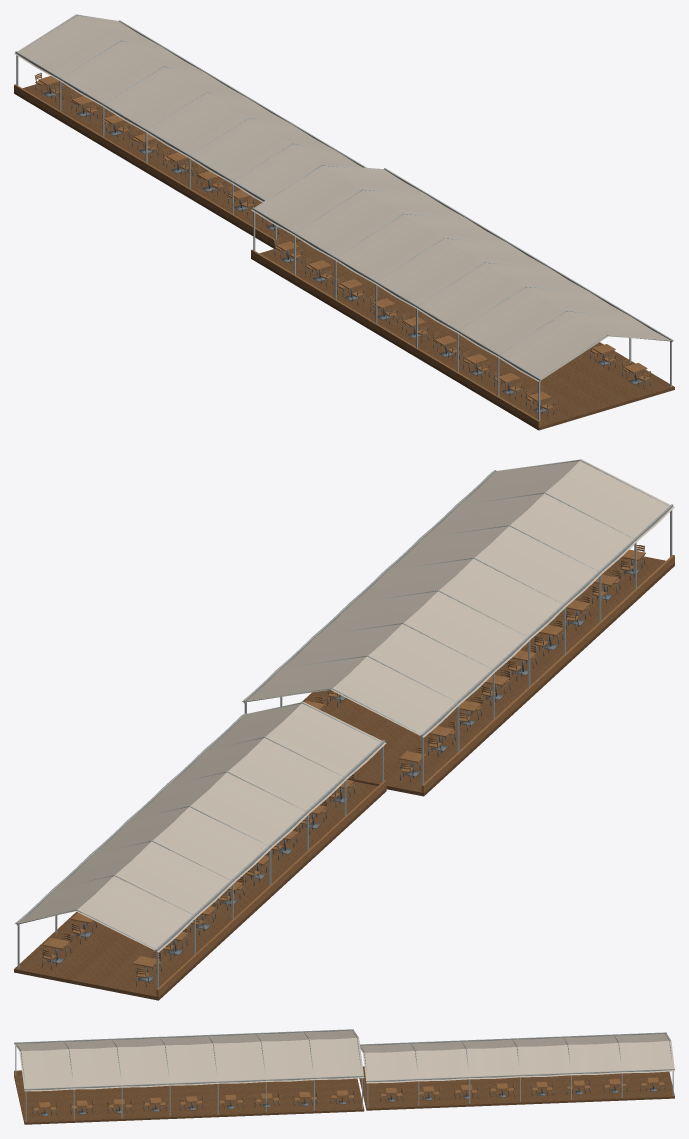
The picture shows the model from 3 angles, top to bottom: view 1: azimuth 30°, elevation 25°; view 2: azimuth 150°, elevation 25°; view 3: azimuth 270°, elevation 25°; orthographic projection. The views are drawn at different scales.
Parts seen in each view (by area): view 1: Canvas, Deck, Teak, Canopy frame, Metal; view 2: Canvas, Deck, Teak, Canopy frame, Metal; view 3: Canvas, Deck, Canopy frame, Teak, Metal.
Boxes of the visible parts, x1,y1,x2,y2 form: Canvas: [14, 14, 673, 381]; Deck: [14, 82, 674, 430]; Teak: [14, 73, 650, 427]; Canopy frame: [15, 14, 672, 420]; Metal: [34, 74, 650, 417]; Canvas: [14, 459, 674, 952]; Deck: [14, 556, 674, 1000]; Teak: [42, 545, 674, 996]; Canopy frame: [16, 459, 673, 989]; Metal: [41, 545, 644, 987]; Canvas: [14, 1030, 674, 1091]; Deck: [14, 1071, 674, 1124]; Canopy frame: [14, 1029, 674, 1121]; Teak: [14, 1066, 665, 1111]; Metal: [31, 1078, 666, 1116].
Bounding box in the file's own units: 10.54 × 3.88 × 45.8.
5 materials, 2 textured.
